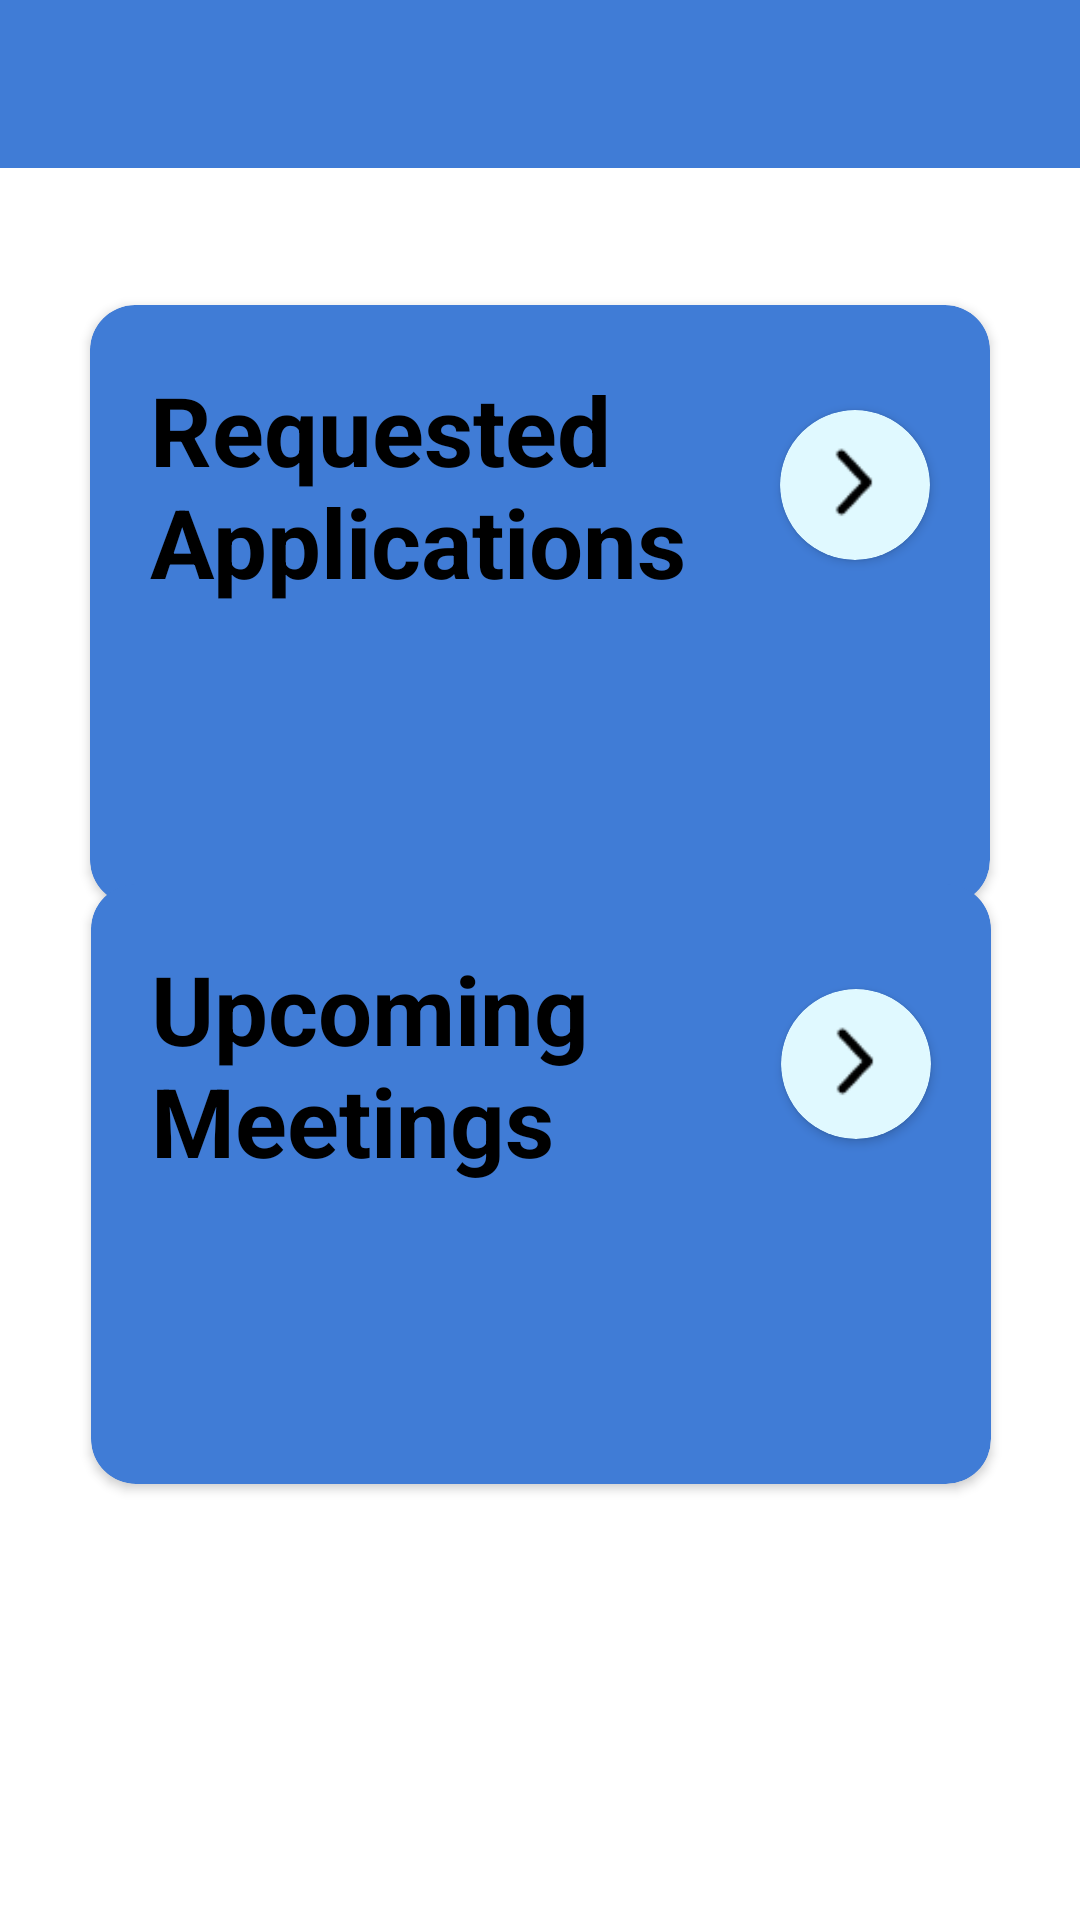

Icon bounding boxes for this 1080 x 1920 phone screenshot, format (x1, y1, x2, y2):
arrow: (835, 448, 873, 516), (836, 1027, 874, 1095)
